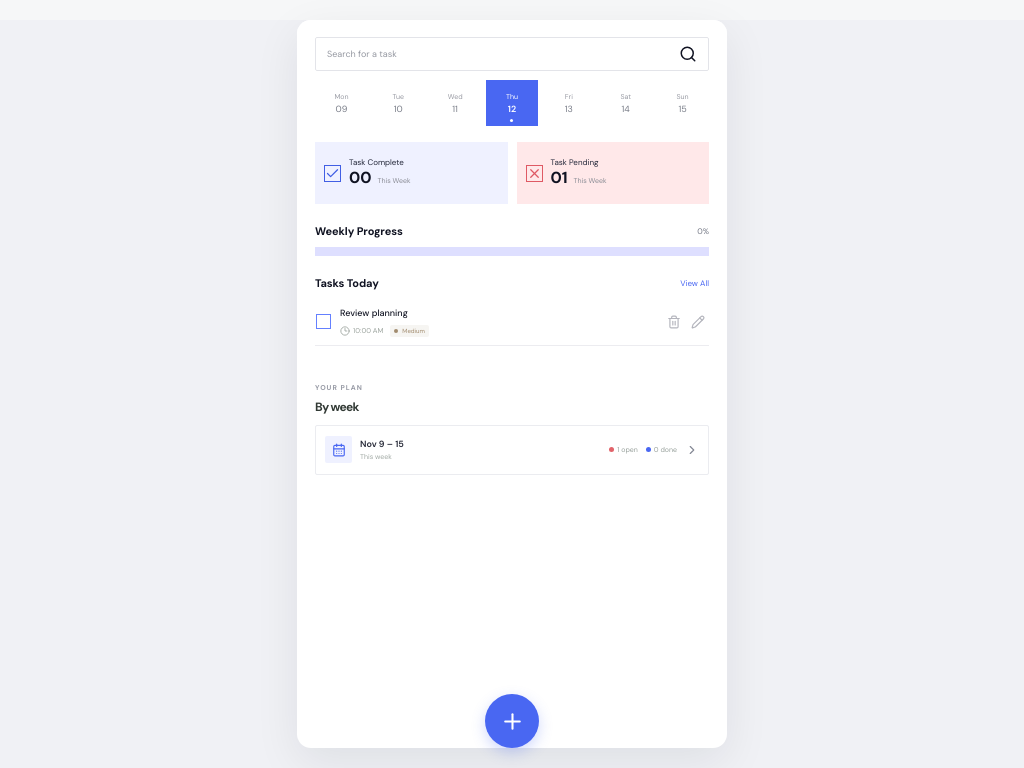
Test case: Weekwise planner › edits an existing task from its task menu
Expected: the heading "Review planning" is shown, [340, 307, 408, 319]
Click the button named "Edit Review planning" at (698, 322), box [688, 310, 708, 334]
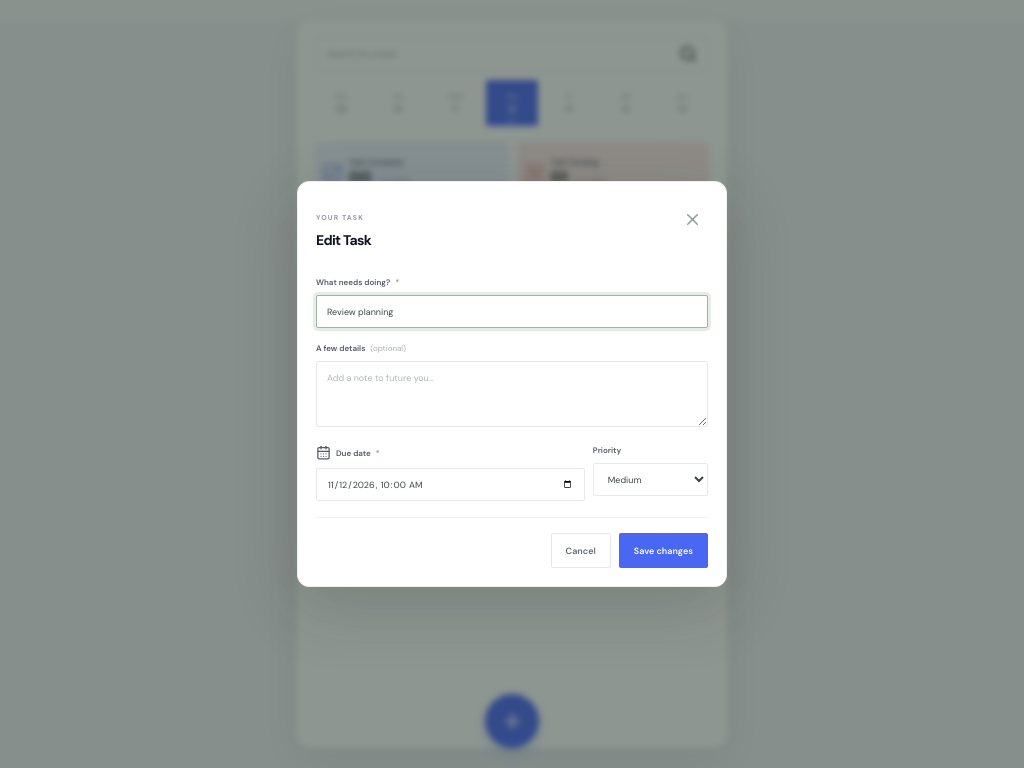
Replace the text in the field labelled "What needs doing? *" with "Review sprint planning" at (512, 312), box [316, 295, 708, 328]
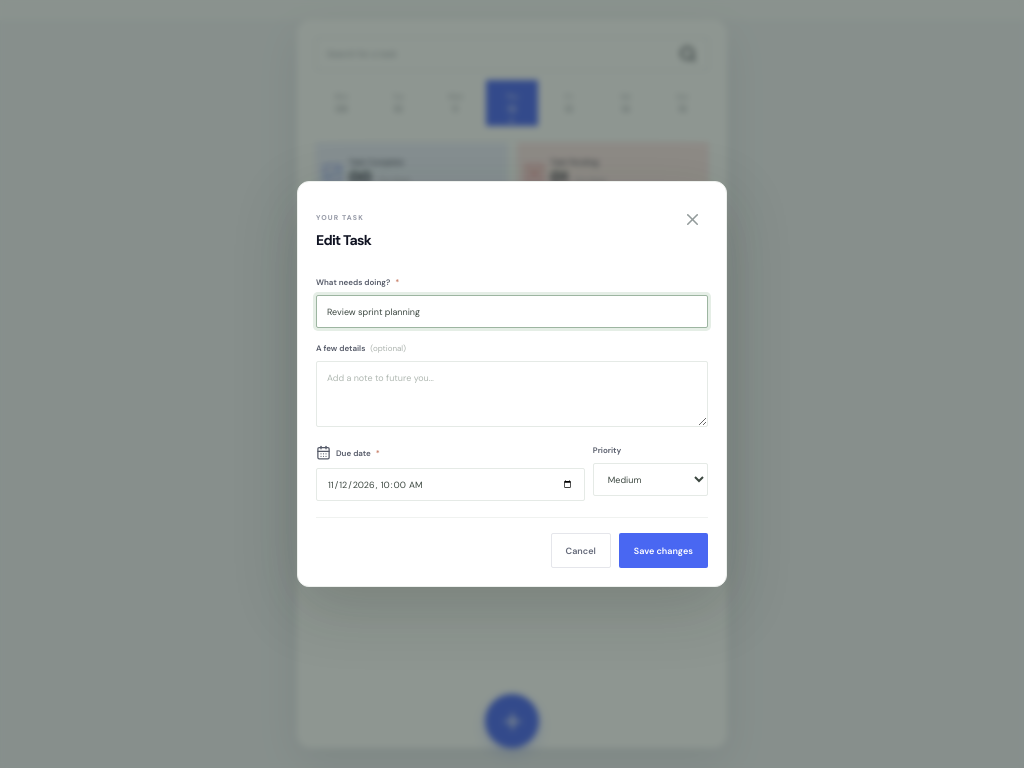
Click the button "Save changes" at (663, 550), box [619, 533, 708, 568]
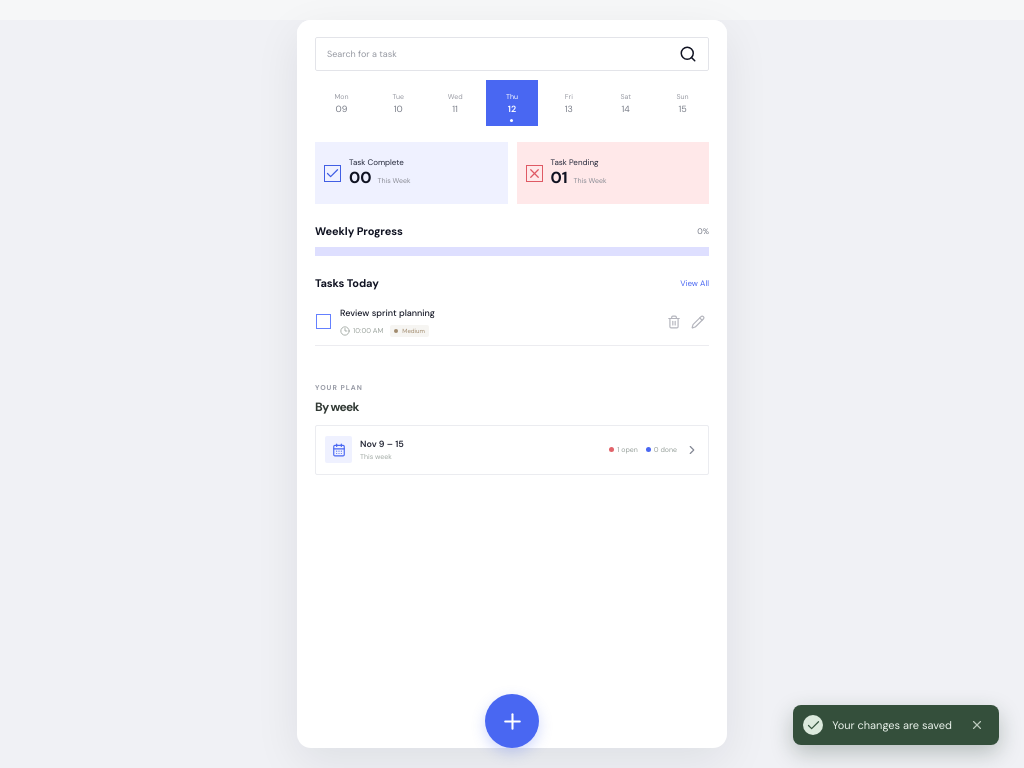
Result: the heading "Review sprint planning" is shown at [340, 307, 435, 319]
